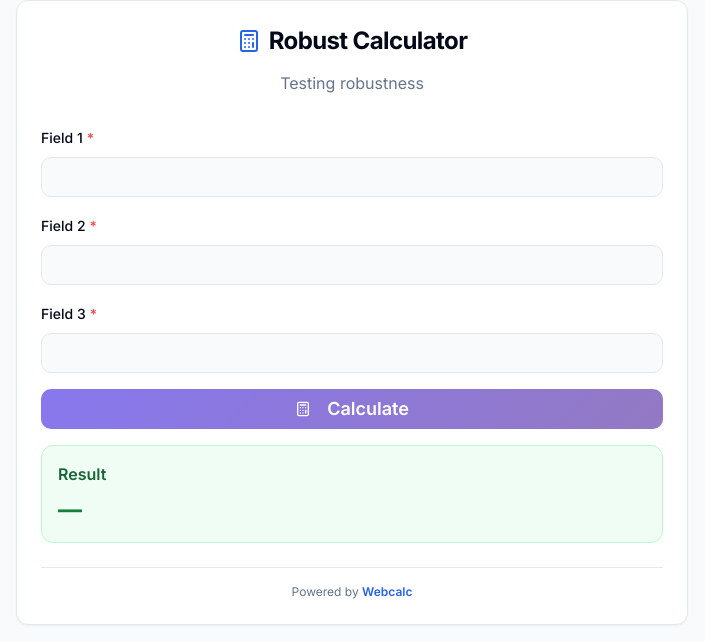
Scenario: Calculator Robustness Tests › Formula Edge Cases › handles complex formulas with parentheses
The width and height of the screenshot is (705, 642).
Type "5" into the number field with test id "input-field1". click: (352, 177)
box: [41, 157, 663, 197]
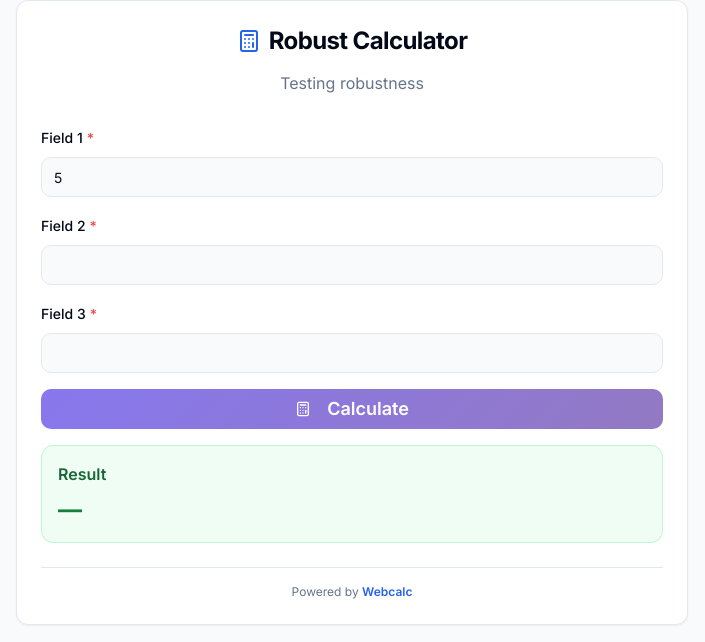
Type "3" into the number field with test id "input-field2". click: (352, 265)
box: [41, 245, 663, 285]
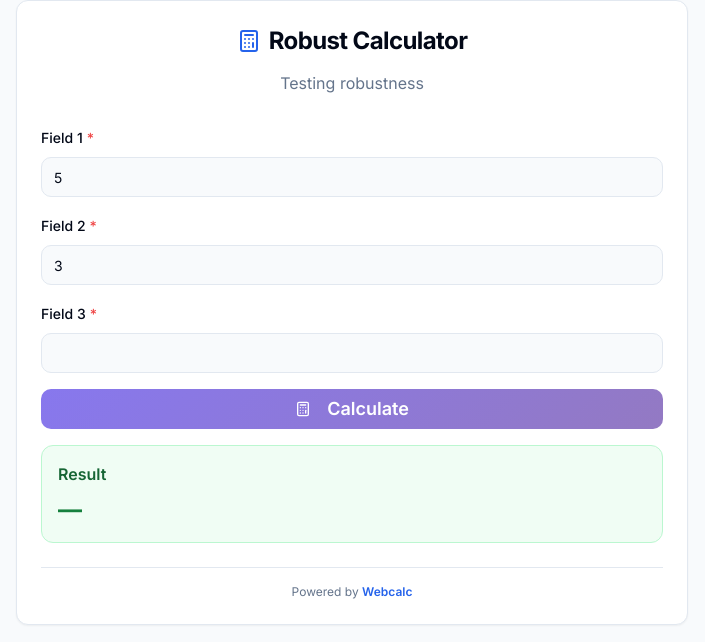
Type "2" into the number field with test id "input-field3". click: (352, 353)
box: [41, 333, 663, 373]
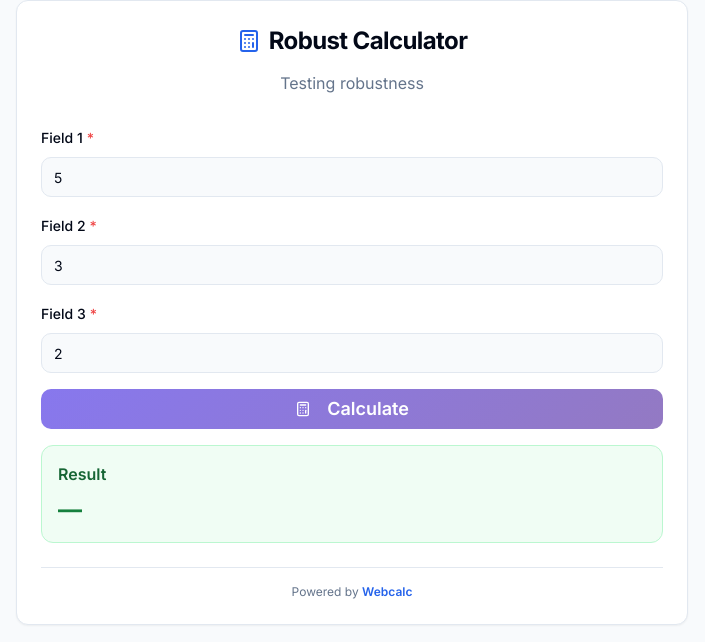
Click the button with test id "button-calculate". click: (352, 409)
box: [41, 389, 663, 429]
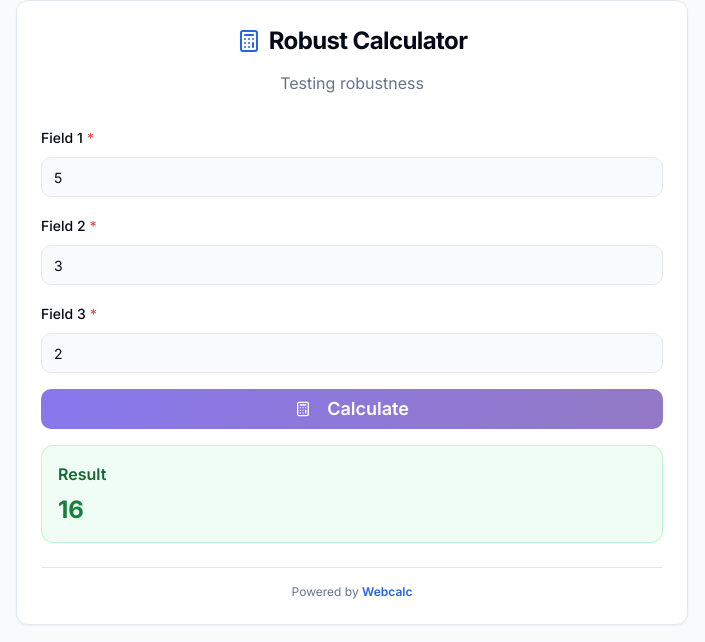
Result: the text with test id "text-result" reads "16" at [58, 495, 84, 524]
